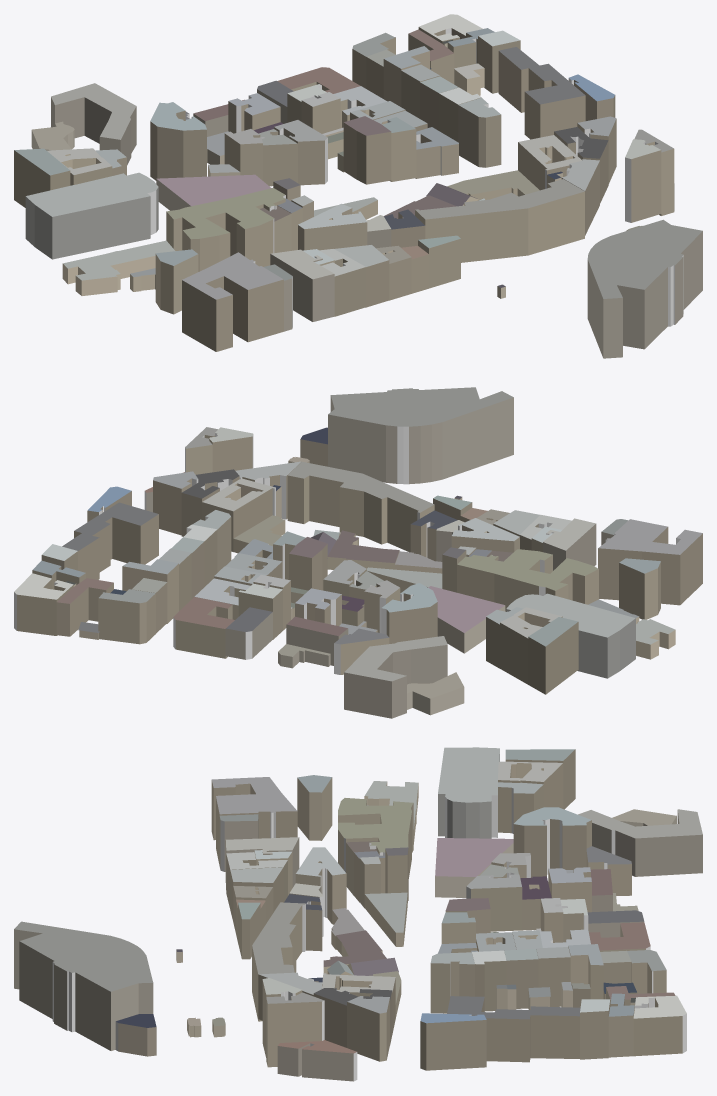
3 views of the same model, one above another, from view 1: azimuth 30°, elevation 25°; view 2: azimuth 150°, elevation 25°; view 3: azimuth 270°, elevation 25° (orthographic). The views are drawn at different scales.
Parts seen in each view (by area): view 1: tuile; view 2: tuile; view 3: tuile.
Boxes of the visible parts, left/top/right/bottom form: tuile: left=14, top=14, right=702, bottom=358; tuile: left=14, top=387, right=702, bottom=718; tuile: left=14, top=747, right=702, bottom=1081.
Bounding box in the file's own units: 260 × 37.57 × 278.
